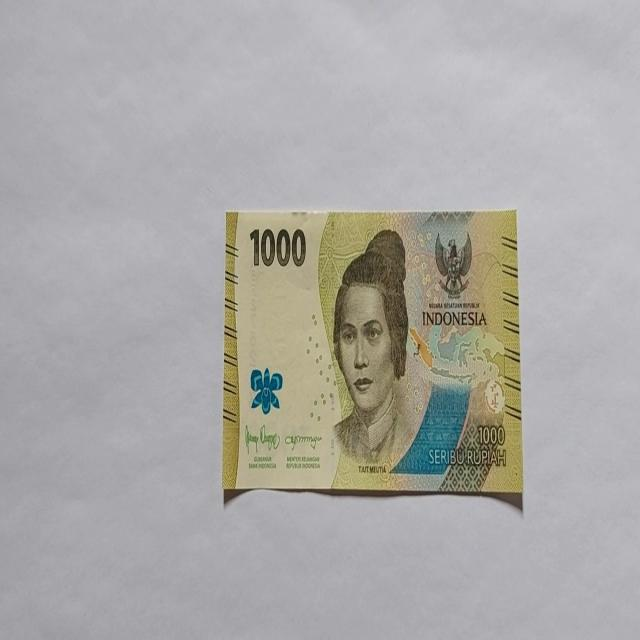seribu rupiah kertas: (222, 207, 522, 504)
